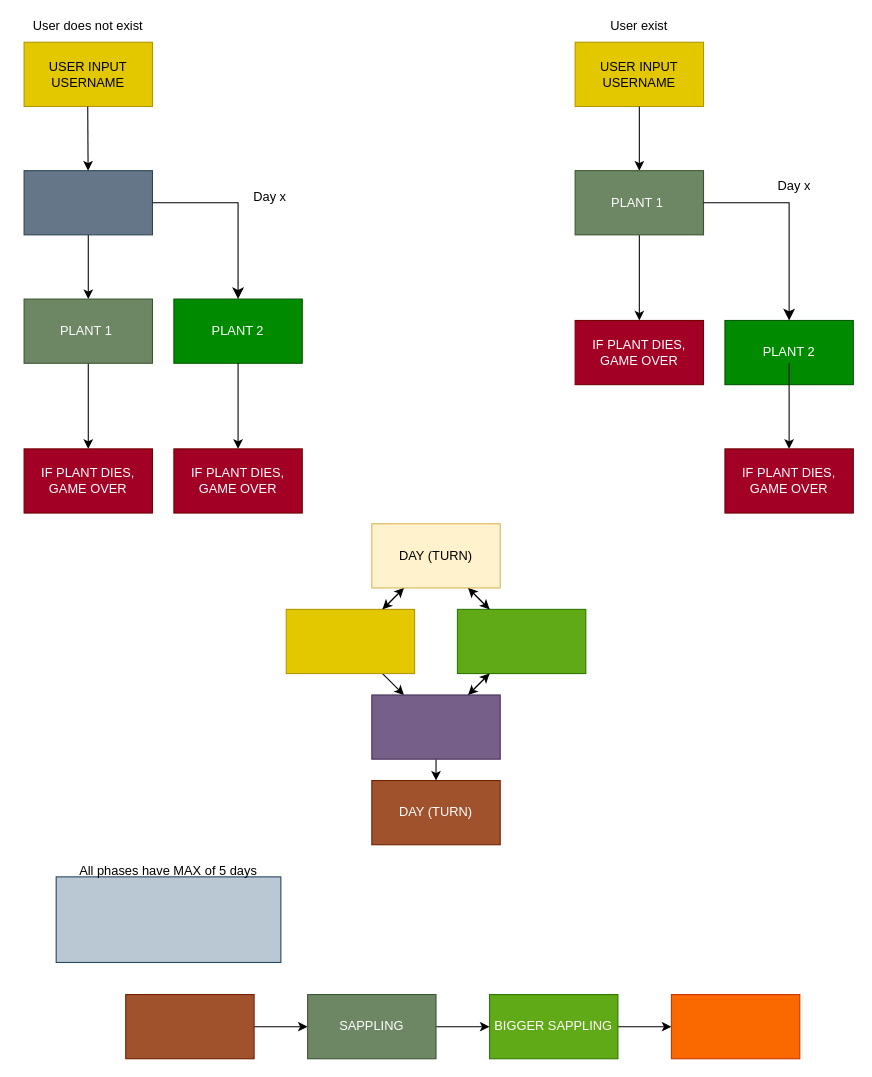
The diagram is 872 pixels wide and 1077 high, and some of its shapes have lost their labels. Here are the shapes that lost their labels. From the top down, the box of each, then its label:
(23, 170, 152, 235): USER "MAKES" PLANT
(285, 608, 415, 674): USER
(456, 608, 586, 674): PLANT
(371, 694, 500, 759): ACTION
(55, 876, 281, 962): OPTIONS: WATER, SUN, NOTHING
(125, 993, 254, 1059): SEED
(670, 993, 800, 1059): FLOWER
